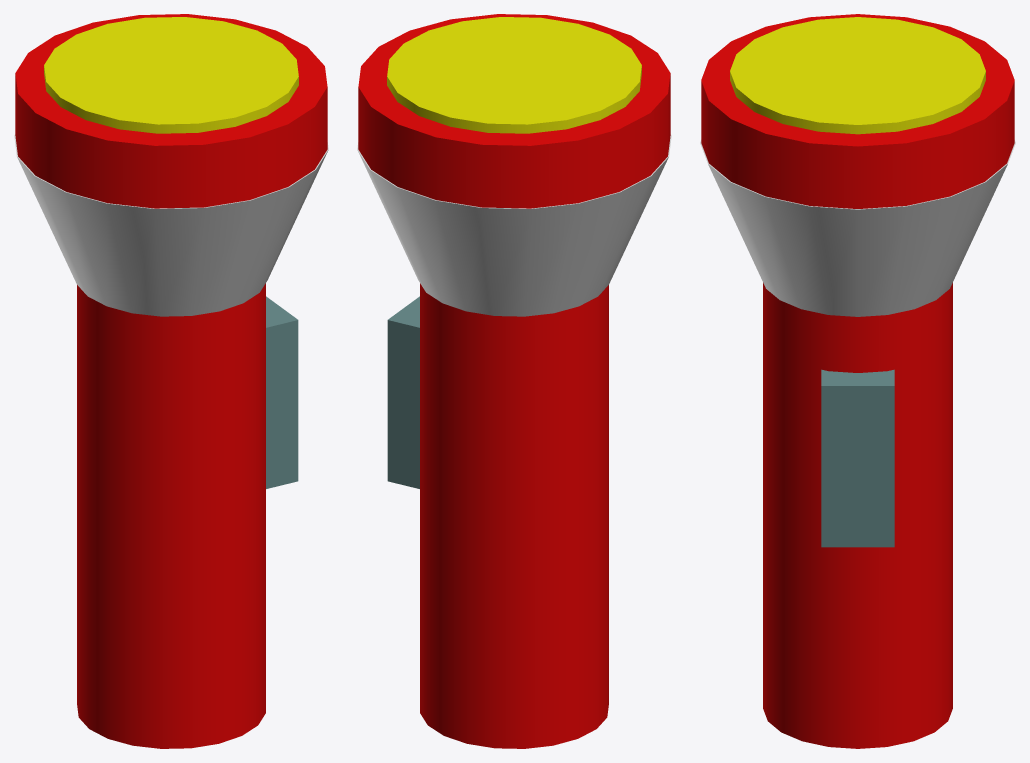
Rendered from Linternita.fbx.
3 renders of one model, left to right at view 1: azimuth 30°, elevation 25°; view 2: azimuth 150°, elevation 25°; view 3: azimuth 270°, elevation 25°, orthographic.
Parts seen in each view (by area): view 1: pCylinder1, pCylinder3, pCylinder2, pasted__pCylinder3, pCube1; view 2: pCylinder1, pCylinder3, pCylinder2, pasted__pCylinder3, pCube1; view 3: pCylinder1, pCylinder3, pCylinder2, pasted__pCylinder3, pCube1.
Part boxes in pixels (left/top/right/bottom): pCylinder1: left=77, top=283, right=265, bottom=748; pCylinder3: left=15, top=14, right=327, bottom=208; pCylinder2: left=14, top=134, right=328, bottom=316; pasted__pCylinder3: left=44, top=17, right=298, bottom=133; pCube1: left=266, top=296, right=298, bottom=488; pCylinder1: left=420, top=283, right=608, bottom=748; pCylinder3: left=358, top=14, right=670, bottom=208; pCylinder2: left=357, top=134, right=671, bottom=316; pasted__pCylinder3: left=387, top=17, right=641, bottom=133; pCube1: left=387, top=296, right=419, bottom=488; pCylinder1: left=763, top=282, right=952, bottom=748; pCylinder3: left=701, top=14, right=1014, bottom=208; pCylinder2: left=700, top=140, right=1015, bottom=316; pasted__pCylinder3: left=730, top=17, right=985, bottom=134; pCube1: left=821, top=369, right=894, bottom=547.
Size of the model in its own units: 4.3 by 9.57 by 4.3.
